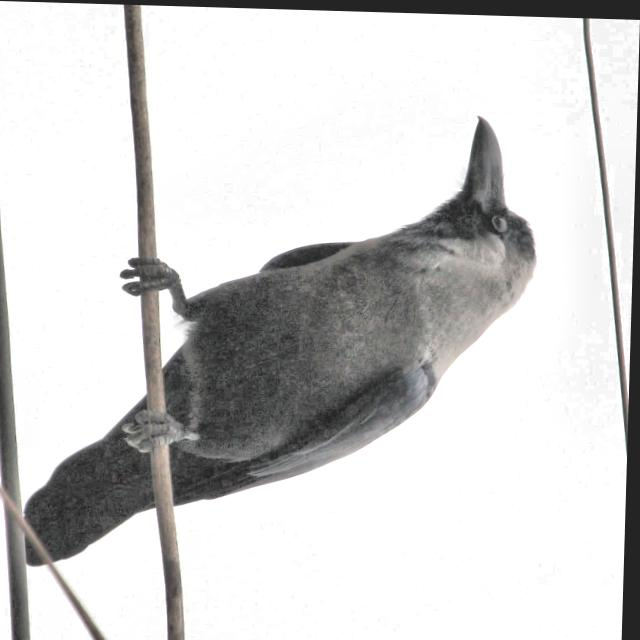crow: (10, 123, 581, 591), (13, 158, 15, 162)
